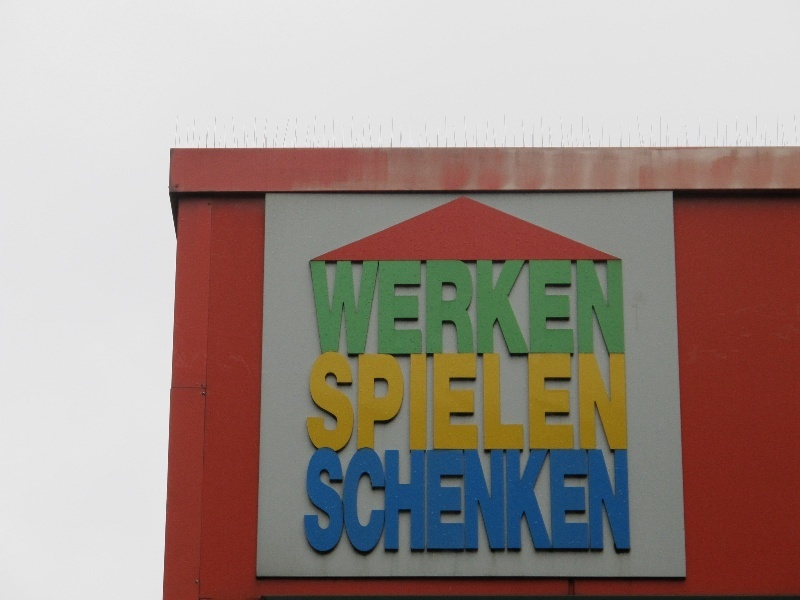text: (321, 448, 336, 554), (337, 448, 352, 554), (353, 448, 368, 554), (369, 448, 384, 554), (385, 448, 400, 554), (401, 448, 416, 554), (417, 448, 432, 554), (433, 448, 448, 554), (449, 448, 464, 554), (465, 448, 480, 554), (481, 448, 496, 554), (497, 448, 512, 554), (513, 448, 528, 554), (529, 448, 544, 554), (545, 448, 560, 554), (561, 448, 576, 554), (577, 448, 592, 554), (593, 448, 608, 554), (609, 448, 624, 554), (321, 352, 336, 452), (337, 352, 352, 452), (353, 352, 368, 452), (369, 352, 384, 452), (385, 352, 400, 452), (401, 352, 416, 452), (417, 352, 432, 452), (433, 352, 448, 452), (449, 352, 464, 452), (465, 352, 480, 452), (481, 352, 496, 452), (497, 352, 512, 452), (513, 352, 528, 452), (529, 352, 544, 452), (545, 352, 560, 452), (561, 352, 576, 452), (577, 352, 592, 452), (593, 352, 608, 452), (609, 352, 624, 452), (321, 260, 336, 356), (337, 260, 352, 356), (353, 260, 368, 356), (369, 260, 384, 356), (385, 260, 400, 356), (401, 260, 416, 356), (417, 260, 432, 356), (433, 260, 448, 356), (449, 260, 464, 356), (465, 260, 480, 356), (481, 260, 496, 356), (497, 260, 512, 356), (513, 260, 528, 356), (529, 260, 544, 356), (545, 260, 560, 356), (561, 260, 576, 356), (577, 260, 592, 356), (593, 260, 608, 356), (609, 260, 624, 356), (308, 448, 320, 554), (310, 260, 320, 356), (311, 352, 320, 452), (625, 448, 631, 554), (625, 352, 629, 452), (625, 260, 626, 356)
